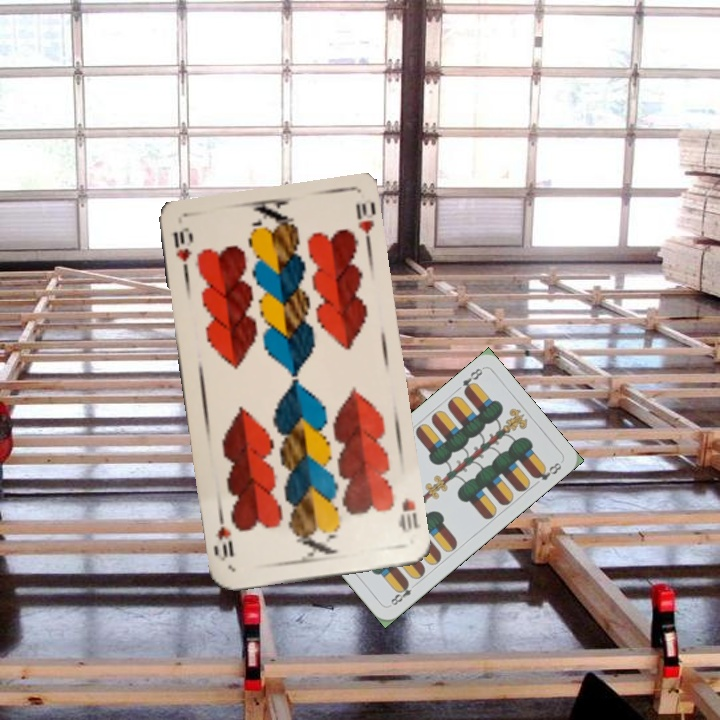E8: (458, 364, 485, 397), (386, 578, 414, 609)
H10: (169, 223, 194, 281), (394, 493, 422, 536)
